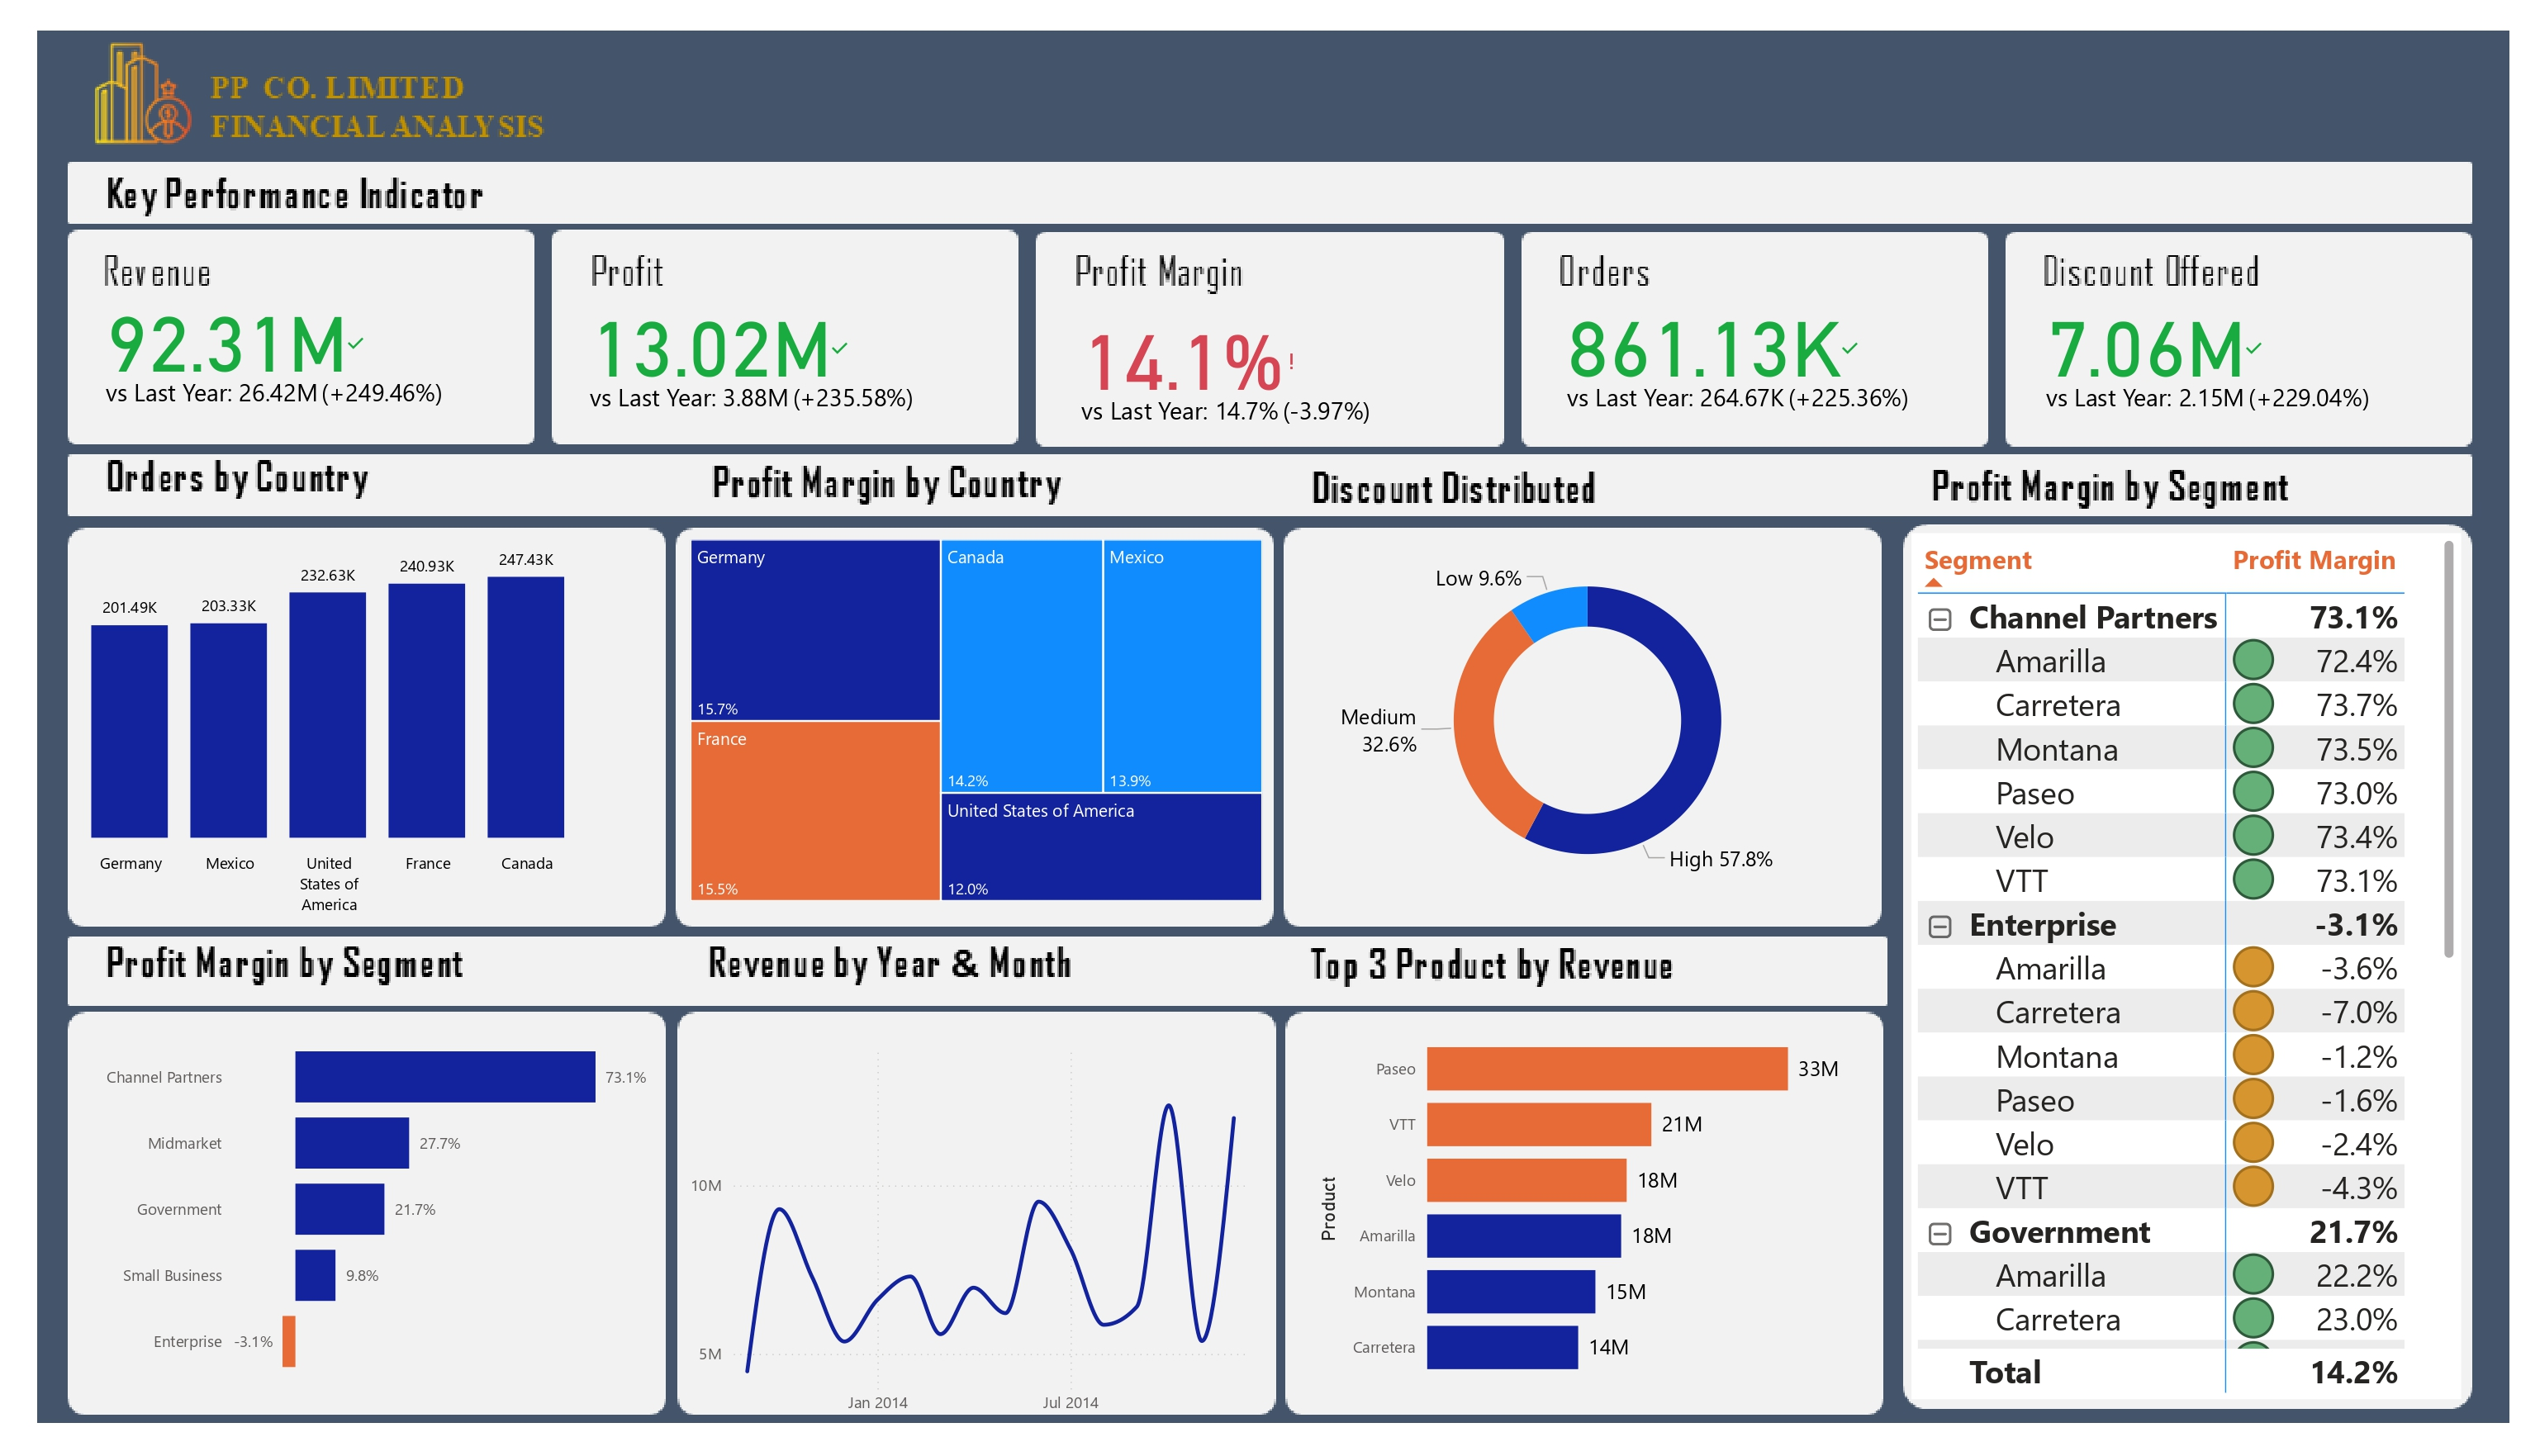

What the dashboard file says about the page in this screenshot:
{"tool":"powerbi","page":{"name":"Page 1","canvas":[1920,1080],"ordinal":0},"visuals":[{"type":"kpi","fields":{"Indicator":["_Measure Table.Total Revenue"],"TrendLine":["Date Table.Year"],"Goal":["_Measure Table.Total Revenue LY"]},"box":[45.3,197.6,319,117.3],"z":0},{"type":"kpi","fields":{"TrendLine":["Date Table.Year"],"Indicator":["_Measure Table.Discount Offered"],"Goal":["_Measure Table.Discount Offered LY"]},"box":[1547.9,201.7,319,113.2],"z":1000},{"type":"kpi","fields":{"TrendLine":["Date Table.Year"],"Indicator":["_Measure Table.Profit"],"Goal":["_Measure Table.Profit LY"]},"box":[419.9,201.7,319,113.2],"z":2000},{"type":"kpi","fields":{"TrendLine":["Date Table.Year"],"Indicator":["_Measure Table.Profit Margin"],"Goal":["_Measure Table.Profit Margin LY"]},"box":[800.7,212,319,102.9],"z":3000},{"type":"kpi","fields":{"TrendLine":["Date Table.Year"],"Indicator":["_Measure Table.Orders"],"Goal":["_Measure Table.Orders LY"]},"box":[1177.4,201.7,319,113.2],"z":4000},{"type":"clusteredColumnChart","fields":{"Y":["_Measure Table.Orders"],"Category":["Financials.Country"]},"box":[0,387,450.8,304.6],"z":5000},{"type":"treemap","fields":{"Group":["Financials.Country"],"Values":["_Measure Table.Profit Margin"]},"box":[506.3,389,452.8,290.2],"z":6000},{"type":"donutChart","fields":{"Category":["Financials.Discount Band"],"Y":["_Measure Table.Discount Offered"]},"box":[992.1,389,428.1,290.2],"z":7000},{"type":"barChart","fields":{"Category":["Financials.Segment"],"Y":["_Measure Table.Profit Margin"]},"box":[45.3,757.5,436.4,304.6],"z":8000},{"type":"lineChart","fields":{"Y":["_Measure Table.Total Revenue"],"Category":["Date Table.Date.Variation.Date Hierarchy.Year","Date Table.Date.Variation.Date Hierarchy.Quarter","Date Table.Date.Variation.Date Hierarchy.Month"]},"box":[506.3,776,452.8,304.6],"z":9000},{"type":"barChart","fields":{"Category":["Financials.Product"],"Y":["_Measure Table.Total Revenue"]},"box":[992.1,757.5,428.1,302.6],"z":10000},{"type":"pivotTable","fields":{"Rows":["Financials.Segment","Financials.Product"],"Values":["_Measure Table.Profit Margin"]},"box":[1457.3,389,426.1,671],"z":11000}]}

Visuals, with their boxes on the page's 1920x1080 design canvas (x1, y1, x2, y2). These are canvas units, not pixel positions in the 2540x1456 screenshot, which may show the page scaled, cropped or inside an application window:
kpi - _Measure Table.Total Revenue x Date Table.Year: 45,198,364,315
kpi - Date Table.Year x _Measure Table.Discount Offered: 1548,202,1867,315
kpi - Date Table.Year x _Measure Table.Profit: 420,202,739,315
kpi - Date Table.Year x _Measure Table.Profit Margin: 801,212,1120,315
kpi - Date Table.Year x _Measure Table.Orders: 1177,202,1496,315
clusteredColumnChart - _Measure Table.Orders x Financials.Country: 0,387,451,692
treemap - Financials.Country x _Measure Table.Profit Margin: 506,389,959,679
donutChart - Financials.Discount Band x _Measure Table.Discount Offered: 992,389,1420,679
barChart - Financials.Segment x _Measure Table.Profit Margin: 45,758,482,1062
lineChart - _Measure Table.Total Revenue x Date Table.Date.Variation.Date Hierarchy.Year: 506,776,959,1081
barChart - Financials.Product x _Measure Table.Total Revenue: 992,758,1420,1060
pivotTable - Financials.Segment x Financials.Product: 1457,389,1883,1060
